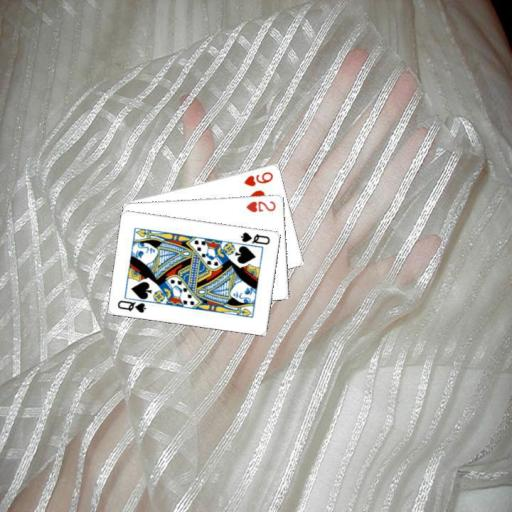2H: (244, 198, 278, 213)
9H: (241, 168, 275, 188)
QS: (238, 229, 272, 246), (114, 298, 148, 315)
